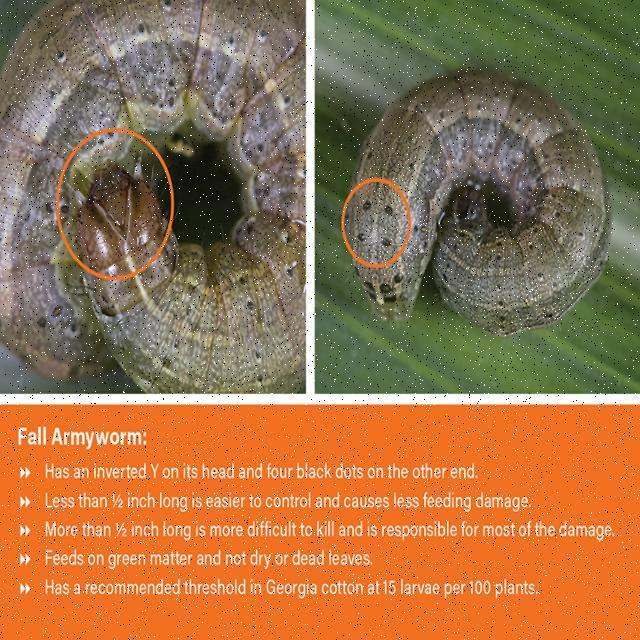army worm: (1, 1, 306, 393), (342, 54, 623, 350)
